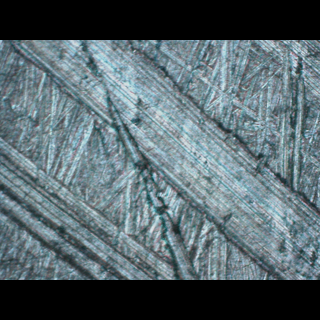d: (2, 40, 320, 278)
